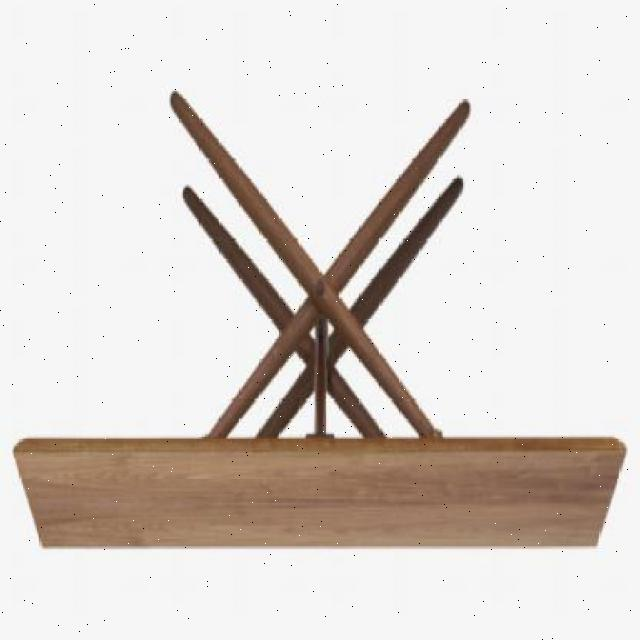mobile-phone: (16, 89, 628, 555)
